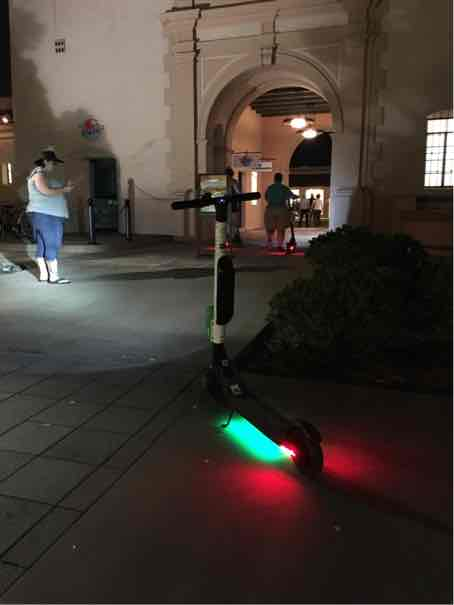scooter: (164, 193, 324, 490)
